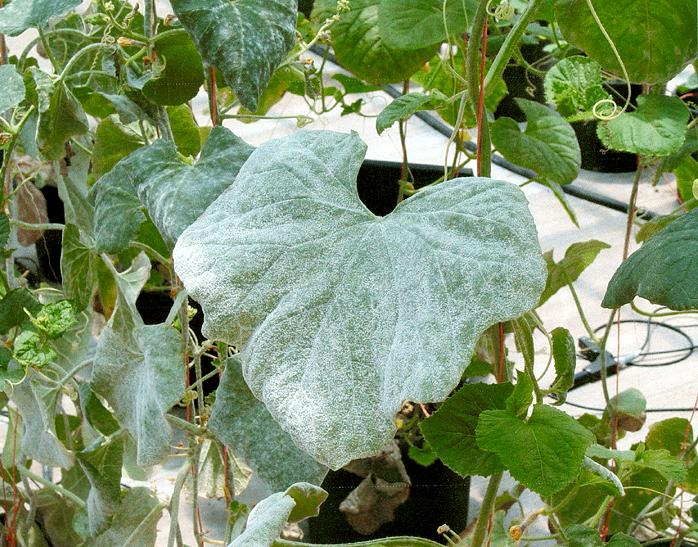Squash Powdery mildew leaf: (172, 133, 548, 480), (64, 250, 196, 478), (132, 126, 273, 247), (168, 1, 297, 115)
